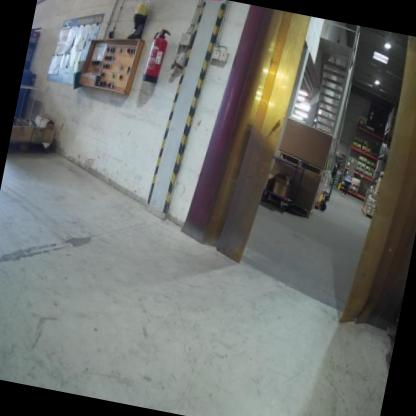pallet: (271, 148, 328, 179), (287, 202, 313, 219), (361, 209, 373, 219), (364, 167, 373, 174), (351, 143, 361, 149), (360, 147, 370, 153), (365, 163, 375, 169), (355, 163, 365, 169), (353, 139, 362, 145), (357, 158, 366, 164), (350, 182, 359, 188), (348, 188, 357, 194), (361, 143, 370, 148), (347, 160, 356, 165)
pallet_truck: (309, 152, 345, 215)
